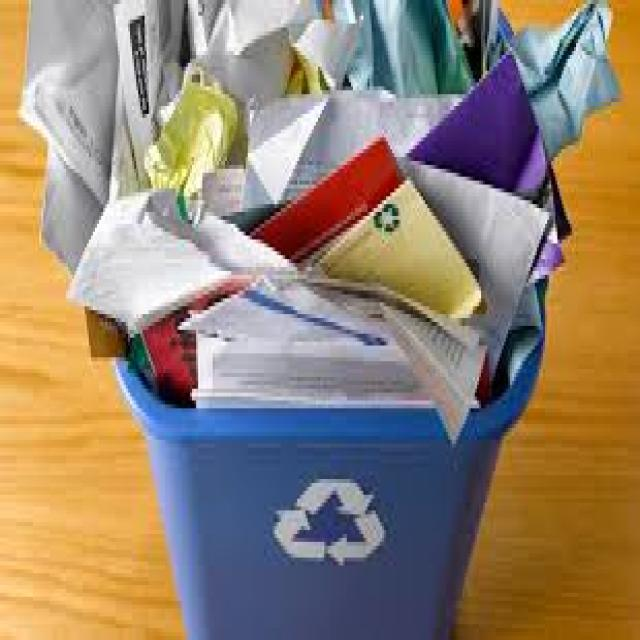paper: (285, 173, 504, 294), (64, 208, 268, 306), (192, 322, 394, 400), (248, 98, 479, 165), (400, 326, 473, 436)
